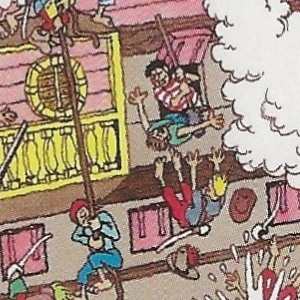Wenda: (141, 122, 159, 178)
